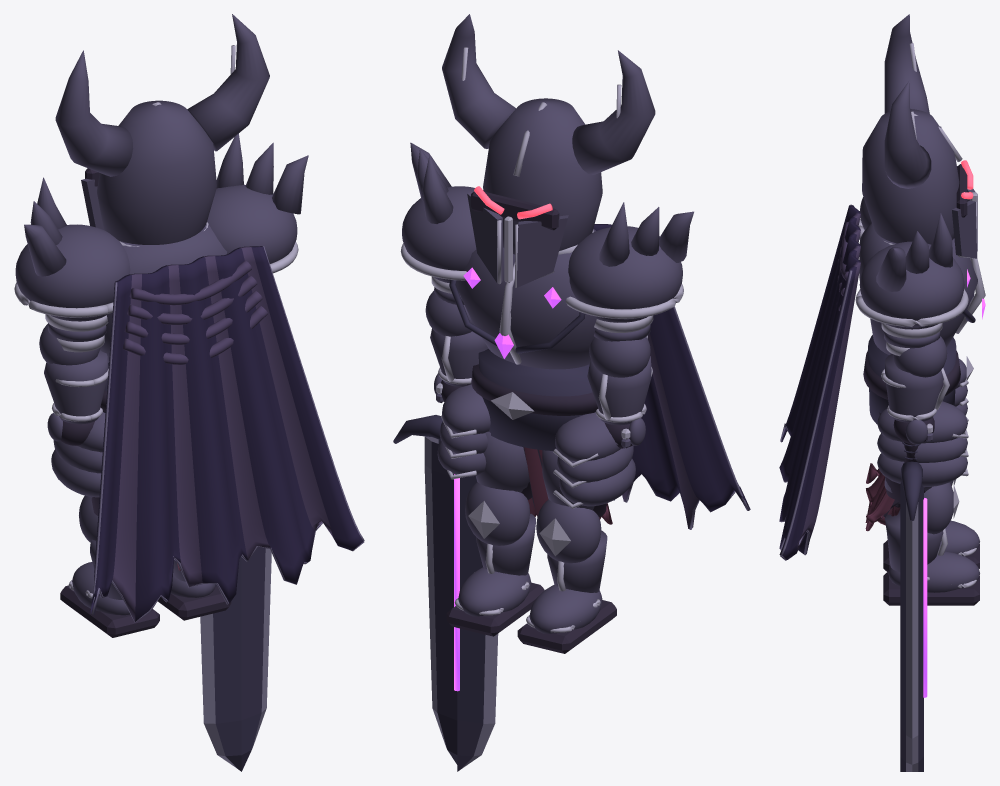
File: thorn_lord.glb
3 renders of one model, left to right at view 1: azimuth 30°, elevation 25°; view 2: azimuth 150°, elevation 25°; view 3: azimuth 270°, elevation 25°, orthographic. The views are drawn at different scales.
Parts seen in each view (by area): view 1: Cape Ref cloth | dark cloak, Head Ref metal | armor, Cape Ref cloth | cloak folds, Moonsteel blade, UpperArmL Ref metal | armor, UpperArmR Ref metal | armor, ForearmL Ref metal | armor, Torso Ref metal | armor, Hips Ref metal | armor, Cape Ref cloth | cloak edge, UpperArmL Ref metal | armor edge, FootL Ref leather | leather.001 (+6 smaller); view 2: Head Ref metal | armor, Moonsteel blade, Cape Ref cloth | dark cloak, UpperArmL Ref metal | armor, Hips Ref metal | armor, Torso Ref metal | armor, UpperArmR Ref metal | armor, Hips Ref metal | steel shade.001, ShinR Ref metal | armor, ShinL Ref metal | armor, ForearmL Ref metal | armor, ForearmR Ref metal | armor (+23 smaller); view 3: Head Ref metal | armor, Cape Ref cloth | dark cloak, UpperArmR Ref metal | armor, Moonsteel blade, Hips Ref metal | armor, ForearmR Ref metal | armor, Cape Ref cloth | cloak folds, ShinR Ref metal | armor, Torso Ref metal | armor, UpperArmR Ref metal | armor edge, FootR Ref metal | armor, Hips Ref metal | steel shade.001 (+13 smaller).
Part boxes in pixels (x1,y1,x2,y2): Cape Ref cloth | dark cloak: (90, 246, 363, 621); Head Ref metal | armor: (55, 14, 269, 244); Cape Ref cloth | cloak folds: (112, 246, 332, 620); Moonsteel blade: (200, 547, 271, 771); UpperArmL Ref metal | armor: (15, 177, 130, 341); UpperArmR Ref metal | armor: (207, 133, 308, 263); ForearmL Ref metal | armor: (39, 324, 108, 424); Torso Ref metal | armor: (100, 224, 226, 362); Hips Ref metal | armor: (51, 412, 105, 497); Cape Ref cloth | cloak edge: (91, 246, 364, 622); UpperArmL Ref metal | armor edge: (14, 282, 113, 352); FootL Ref leather | leather.001: (60, 585, 159, 637); Head Ref metal | armor: (442, 14, 655, 287); Moonsteel blade: (424, 436, 498, 771); Cape Ref cloth | dark cloak: (593, 224, 750, 511); UpperArmL Ref metal | armor: (568, 202, 693, 341); Hips Ref metal | armor: (437, 384, 635, 506); Torso Ref metal | armor: (456, 229, 596, 369); UpperArmR Ref metal | armor: (402, 142, 476, 304); Hips Ref metal | steel shade.001: (478, 349, 592, 450); ShinR Ref metal | armor: (465, 482, 535, 575); ShinL Ref metal | armor: (536, 499, 607, 592); ForearmL Ref metal | armor: (587, 337, 651, 425); ForearmR Ref metal | armor: (425, 291, 488, 386); Head Ref metal | armor: (862, 14, 977, 258); Cape Ref cloth | dark cloak: (779, 205, 860, 559); UpperArmR Ref metal | armor: (859, 213, 964, 348); Moonsteel blade: (900, 481, 923, 771); Hips Ref metal | armor: (877, 359, 967, 487); ForearmR Ref metal | armor: (885, 336, 947, 422); Cape Ref cloth | cloak folds: (797, 213, 860, 552); ShinR Ref metal | armor: (884, 482, 953, 572); Torso Ref metal | armor: (859, 223, 977, 354); UpperArmR Ref metal | armor edge: (855, 289, 968, 356); FootR Ref metal | armor: (888, 551, 979, 592); Hips Ref metal | steel shade.001: (868, 335, 956, 424).
Bounding box in the file's own units: 1.74 × 4.31 × 1.17.
